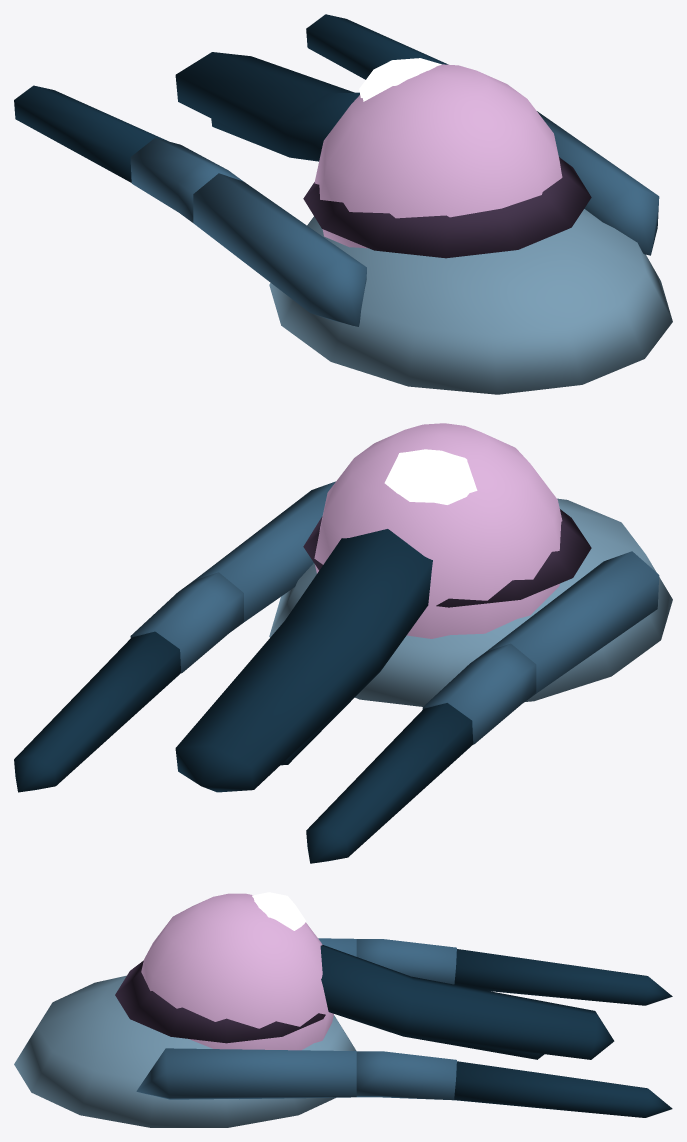
File: newshc-171.glb
3 renders of one model, top to bottom at view 1: azimuth 30°, elevation 25°; view 2: azimuth 150°, elevation 25°; view 3: azimuth 270°, elevation 25°, orthographic. The views are drawn at different scales.
Parts seen in each view (by area): view 1: newshc-171, newshc-171-stem-228, newshc-171-stem-171; view 2: newshc-171, newshc-171-stem-228, newshc-171-stem-171; view 3: newshc-171, newshc-171-stem-228, newshc-171-stem-171.
Boxes of the visible parts, left/top/right/bottom form: newshc-171: left=14, top=14, right=672, bottom=394; newshc-171-stem-228: left=175, top=52, right=354, bottom=159; newshc-171-stem-171: left=211, top=92, right=359, bottom=161; newshc-171: left=14, top=423, right=672, bottom=863; newshc-171-stem-228: left=175, top=563, right=432, bottom=792; newshc-171-stem-171: left=281, top=529, right=432, bottom=765; newshc-171: left=14, top=892, right=672, bottom=1127; newshc-171-stem-228: left=322, top=976, right=614, bottom=1059; newshc-171-stem-171: left=320, top=945, right=544, bottom=1059.
Size of the model in its own units: 0.4961 by 0.32 by 1.03.
